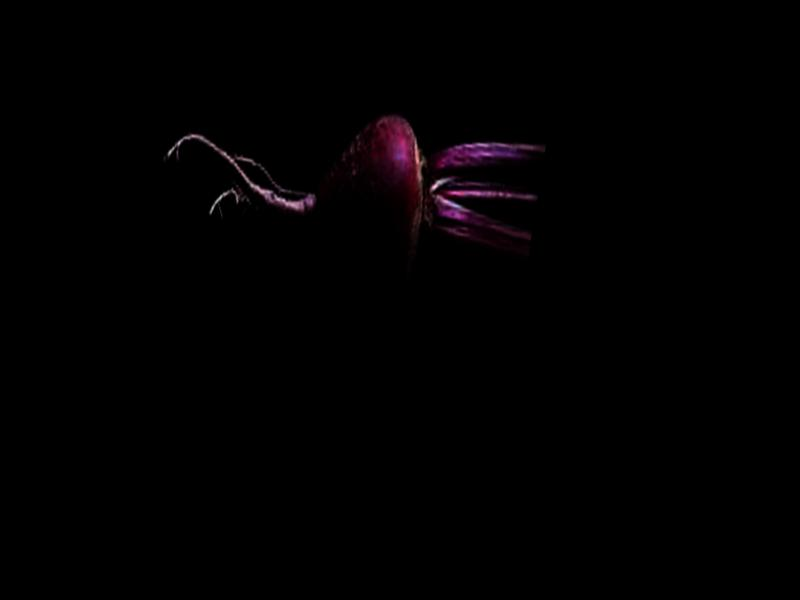Beet: (145, 67, 547, 328)
